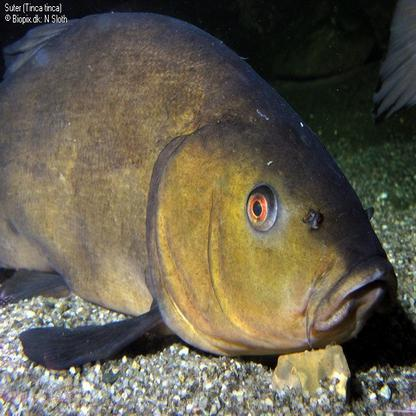fish: (0, 12, 398, 371)
